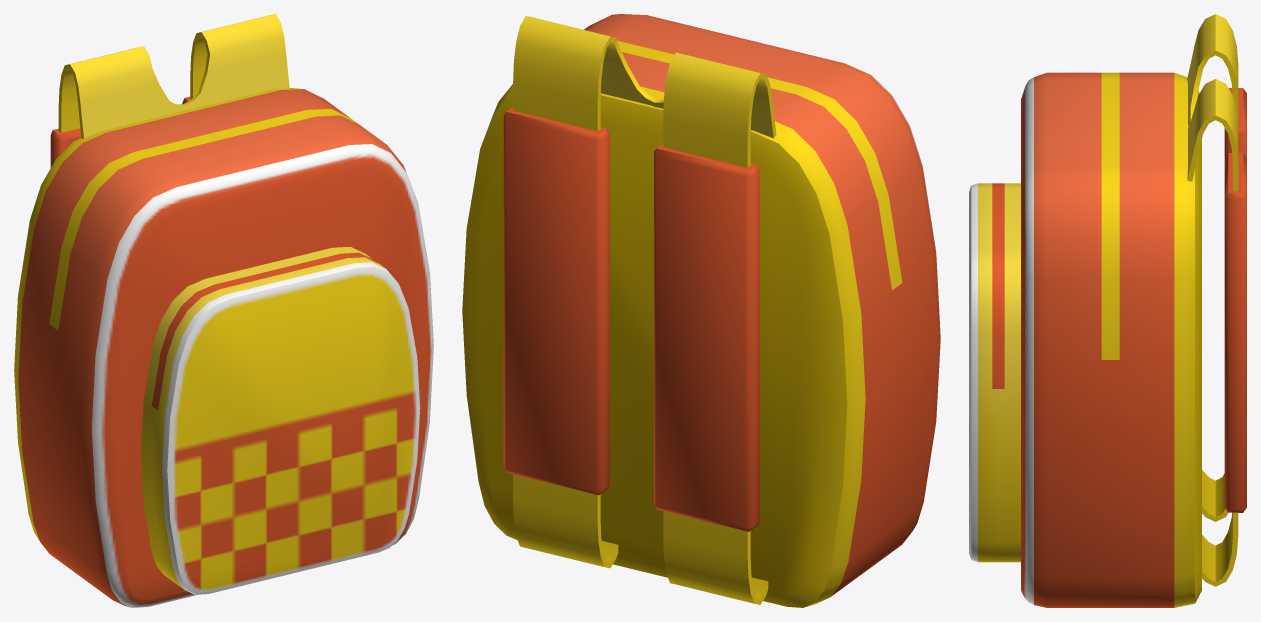
File: bag.FBX
3 renders of one model, left to right at view 1: azimuth 30°, elevation 25°; view 2: azimuth 150°, elevation 25°; view 3: azimuth 270°, elevation 25°, orthographic. The views are drawn at different scales.
Visible parts, largest first — view 1: bag; view 2: bag; view 3: bag.
Part boxes in pixels (x1,y1,x2,y2): bag: (14,14,433,607); bag: (462,14,940,607); bag: (969,14,1246,607).
Bounding box in the file's own units: 33.54 × 43.68 × 22.86.
